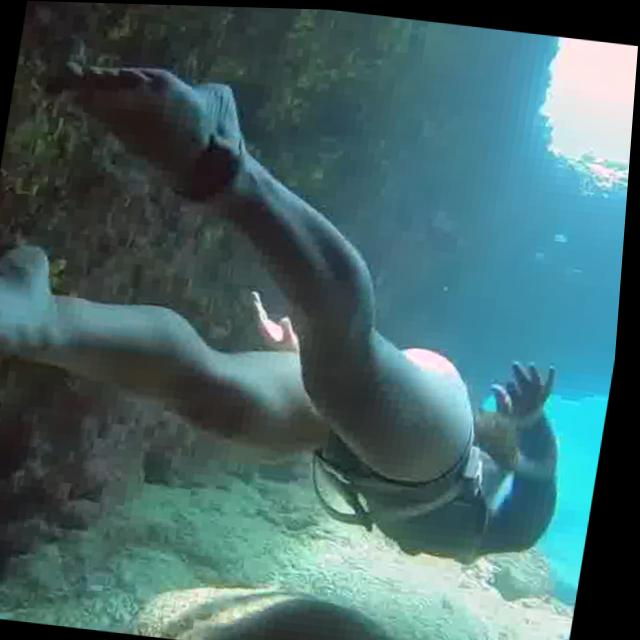human: (0, 19, 632, 579)
